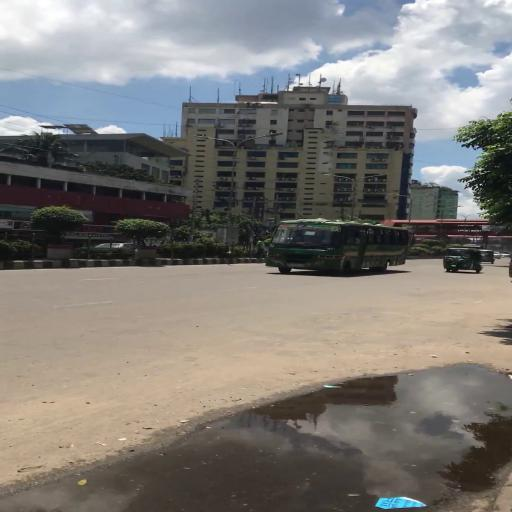bus: (263, 219, 411, 276)
three wheelers (CNG): (444, 247, 484, 275), (480, 250, 496, 265)
